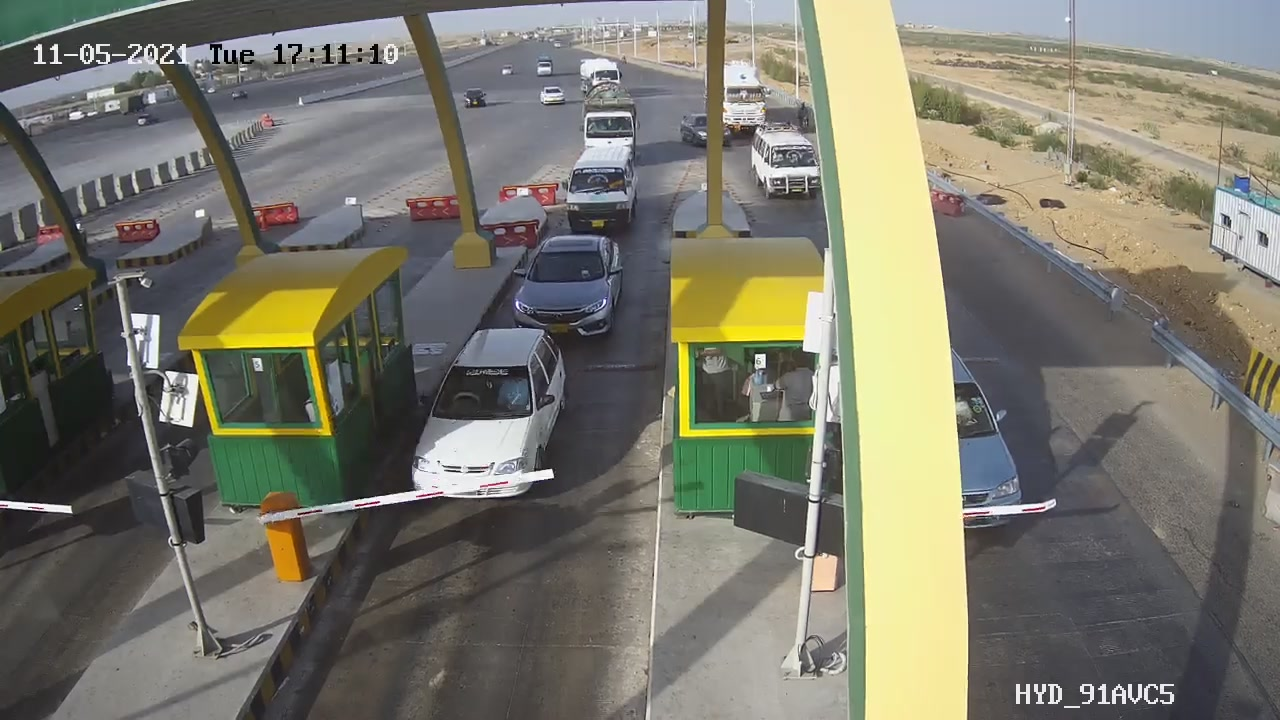F1: (392, 316, 583, 514), (492, 222, 643, 346)
